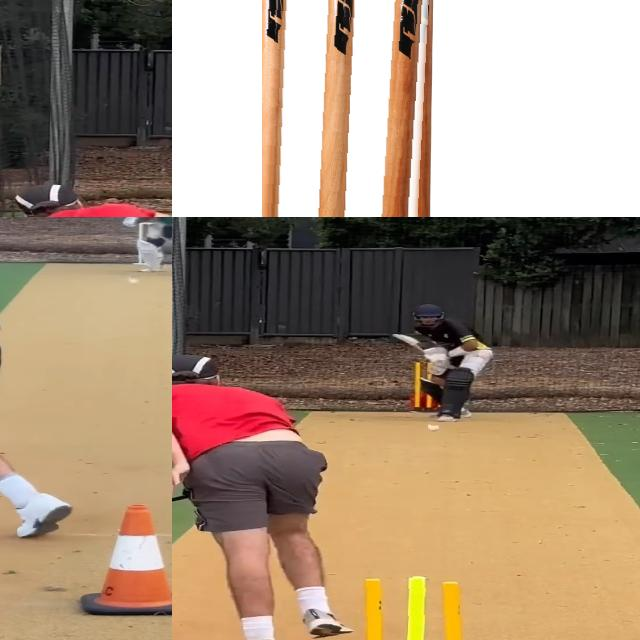Cricket ball: (125, 275, 141, 285), (425, 423, 441, 432)
Stumps: (262, 0, 439, 217), (345, 574, 482, 640)
